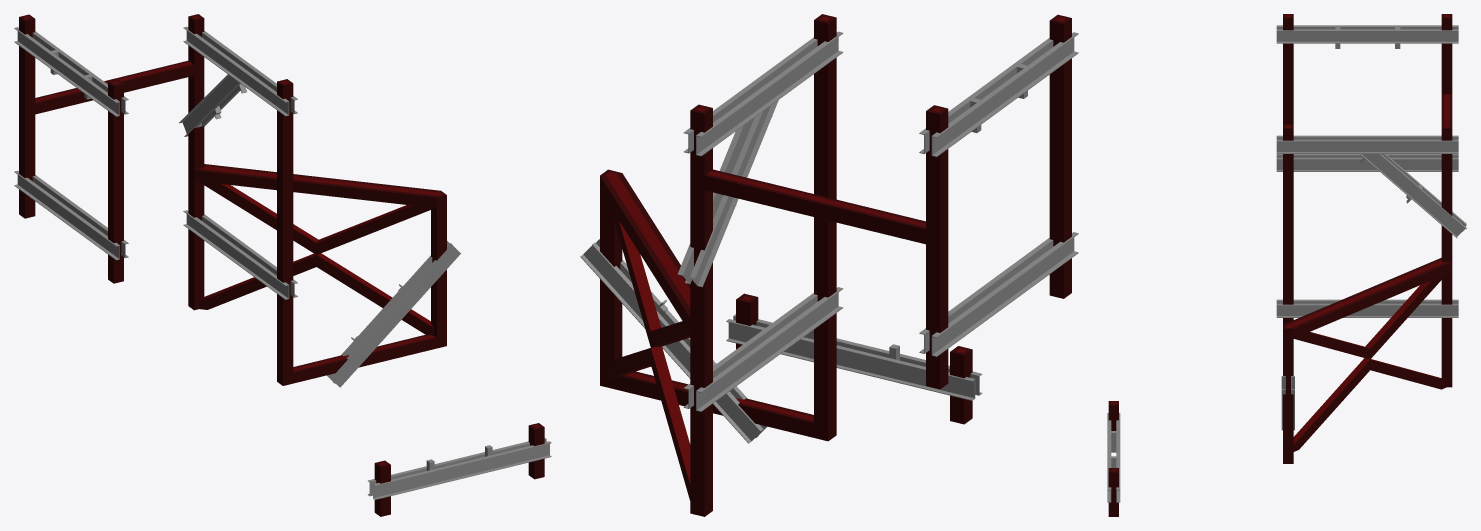
The model's file is rmc_support_corkscrew.obj.
3 views of the same model, side by side, from view 1: azimuth 30°, elevation 25°; view 2: azimuth 150°, elevation 25°; view 3: azimuth 270°, elevation 25° (orthographic). The views are drawn at different scales.
Bounding box in the file's own units: 7 × 7.7 × 7.01.
